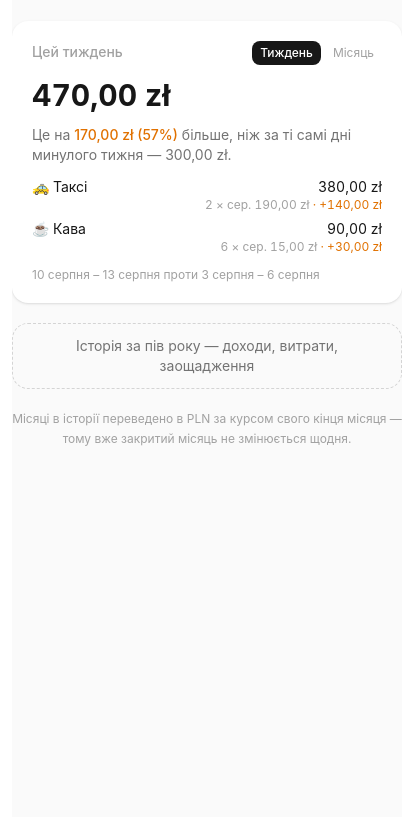
Stats › says a month was empty instead of showing an empty card
Click the button "Історія за пів року — доходи, витрати, заощадження". click: (207, 356)
box: [12, 323, 402, 389]
(page scrolled)
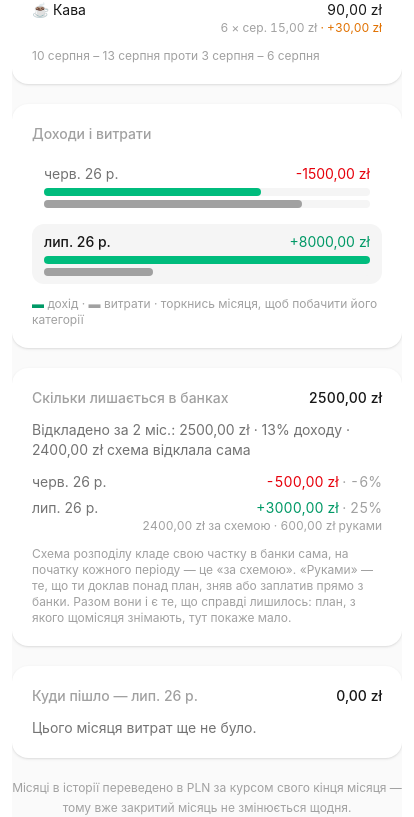
Check: the text "Цього місяця витрат ще не було." is shown, box [32, 719, 256, 736]
